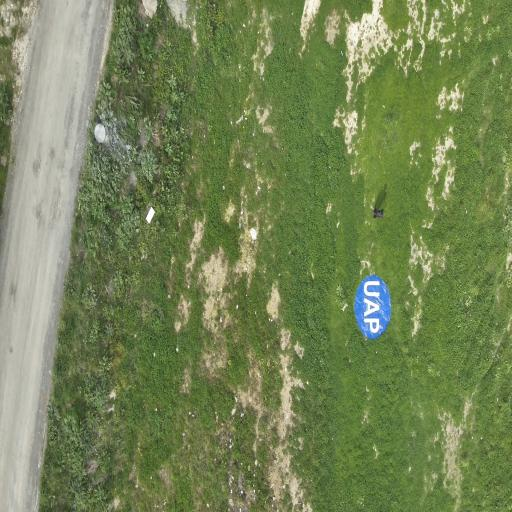UAP: (355, 276, 391, 338)
person: (374, 209, 383, 218)
